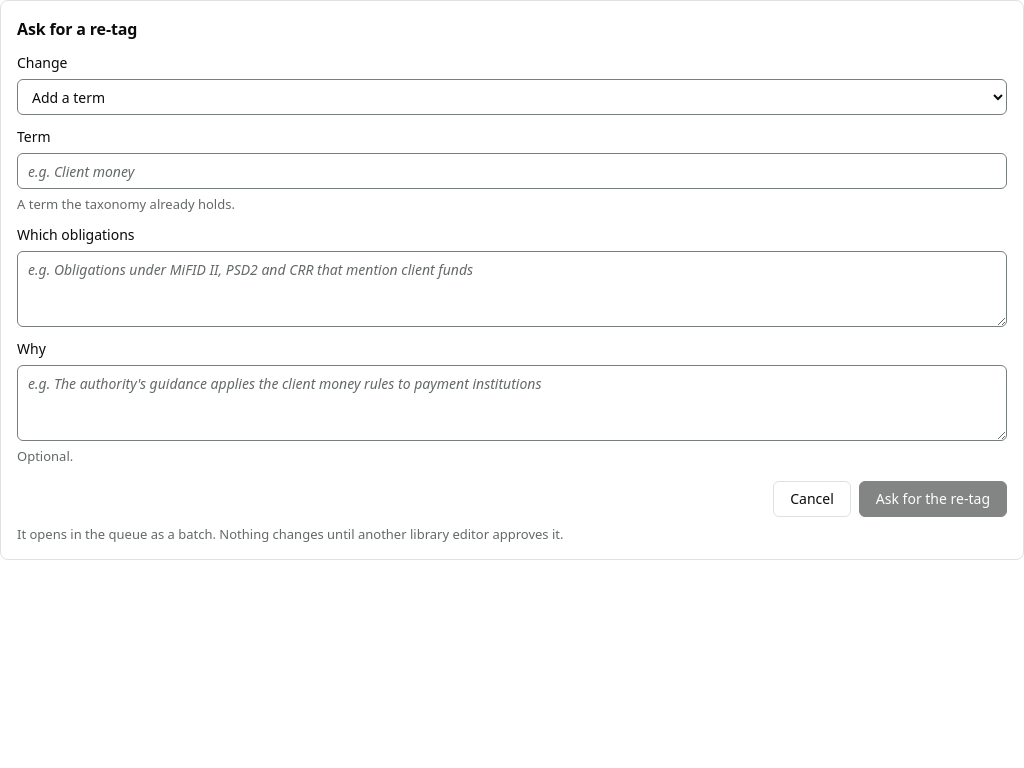
asking for a re-tag › says so when the request ends without a batch
The width and height of the screenshot is (1024, 768).
Type "Client money" into the field labelled "Term" at point(512, 171), box [17,153,1007,189]
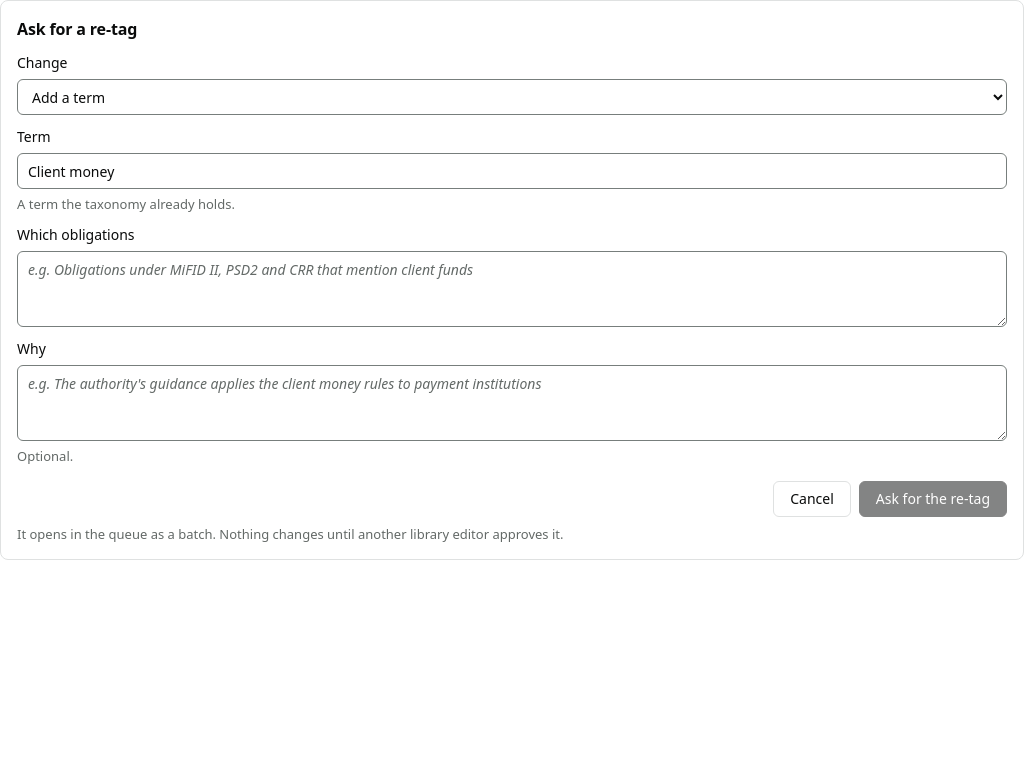
Select "Remove a term" in the dropdown labelled "Change" at point(512, 97), box [17,79,1007,115]
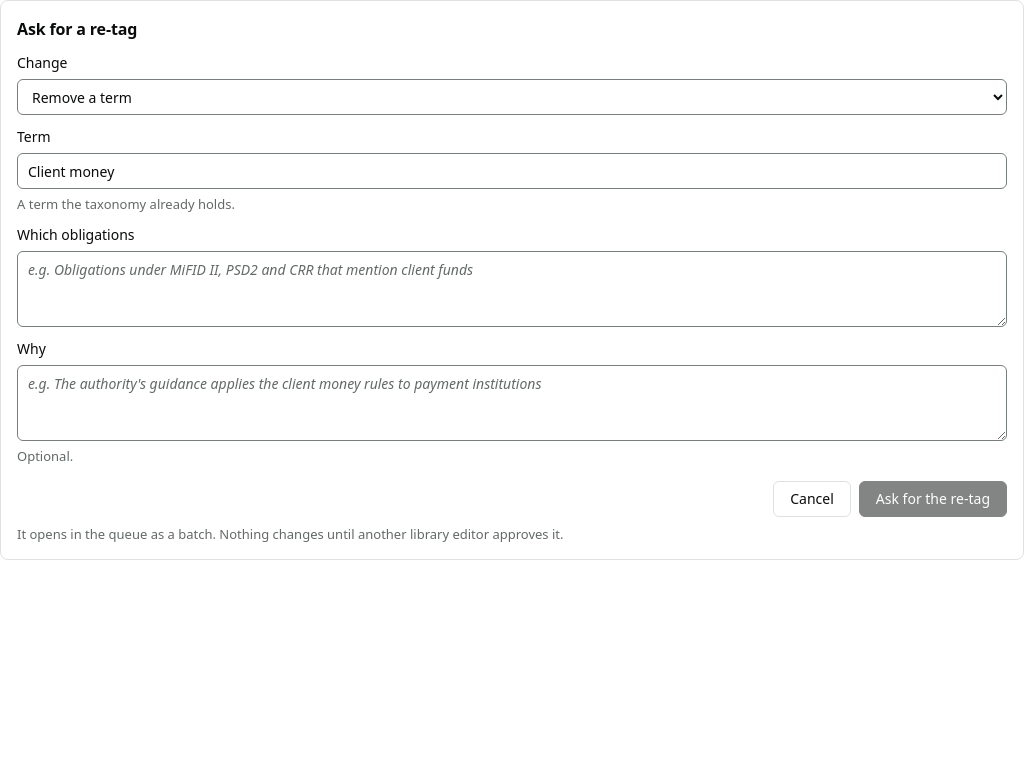
Replace the text in the text box labelled "Which obligations" with "Custody duties" at point(512, 289), box [17,251,1007,327]
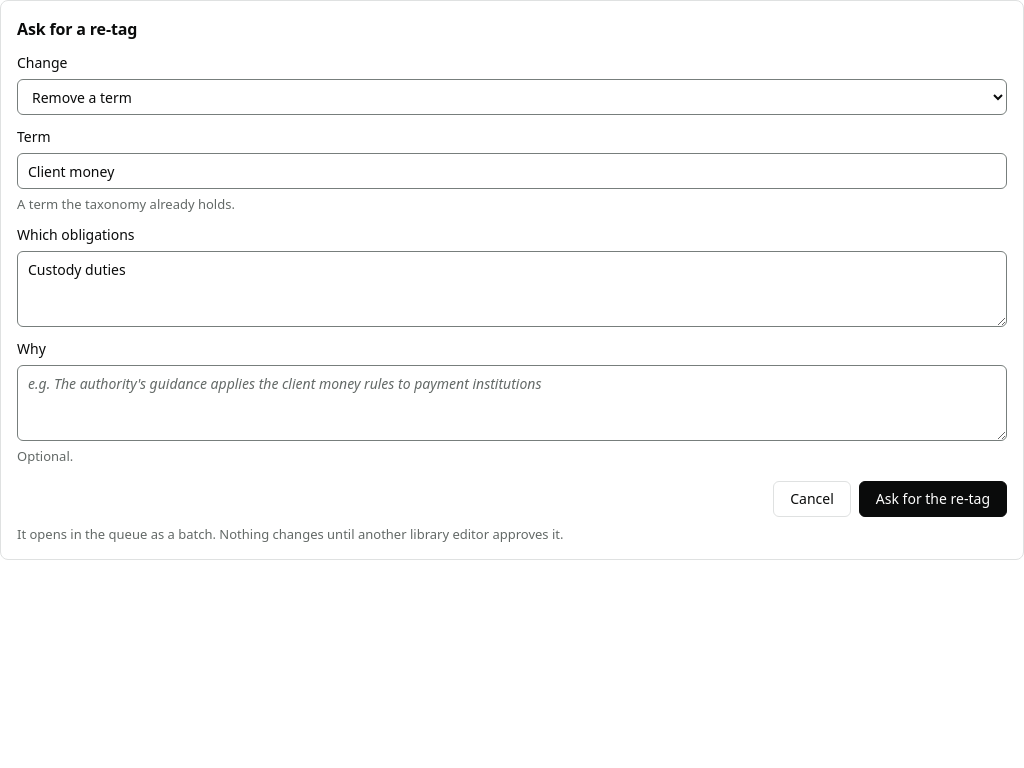
Click the button "Ask for the re-tag" at point(933, 499), box [859,481,1007,517]
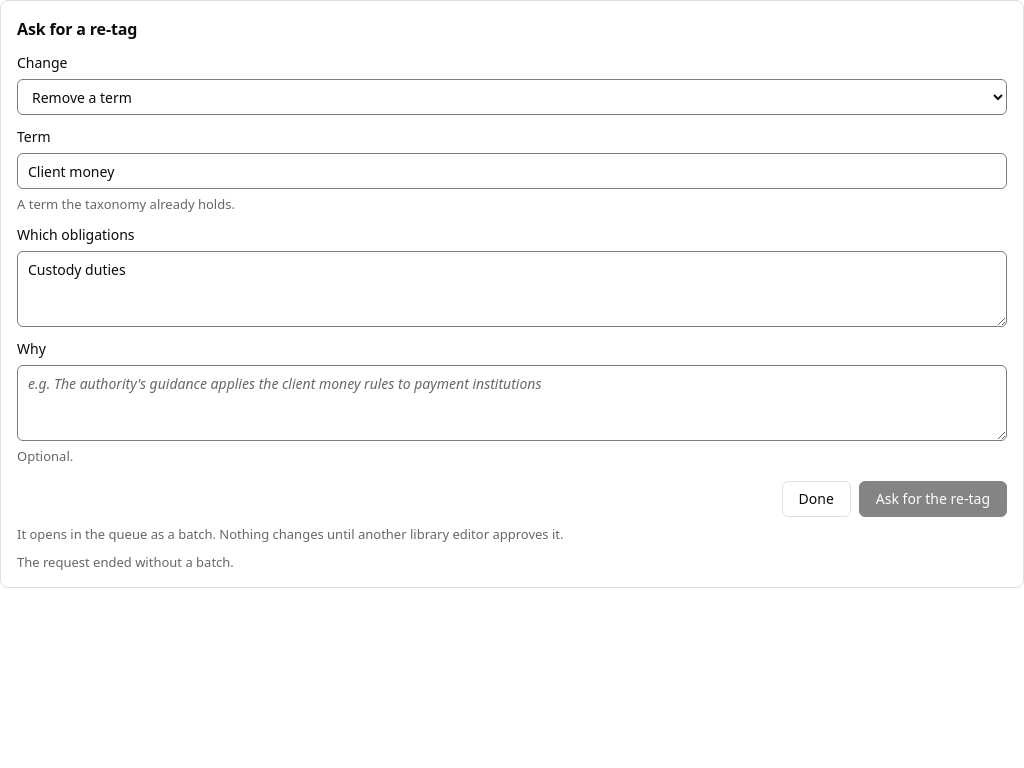
Now the text "The request ended without a batch." is shown, box [17,553,234,571]
